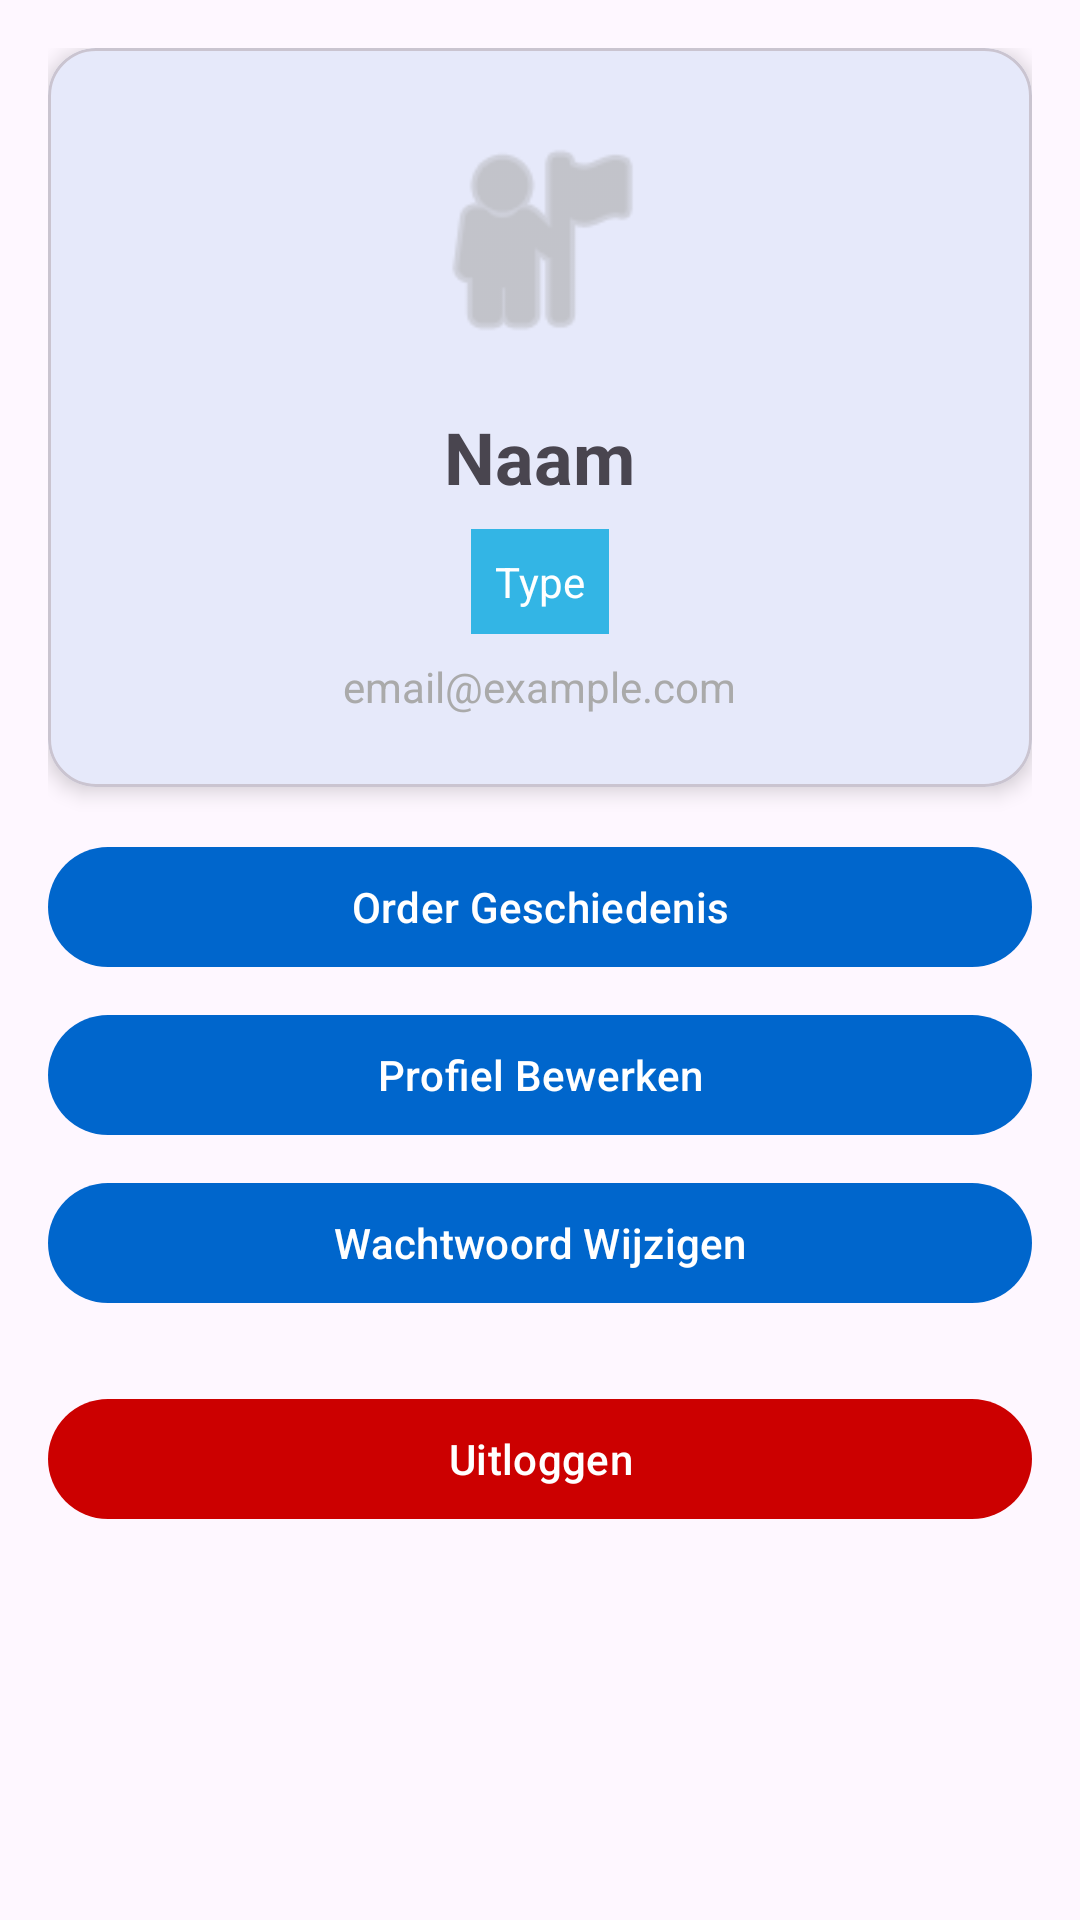

Icon bounding boxes for this 1080px×1920px phone screenshot, format (x1, y1, x2, y2):
myplaces: (454, 153, 631, 327)
